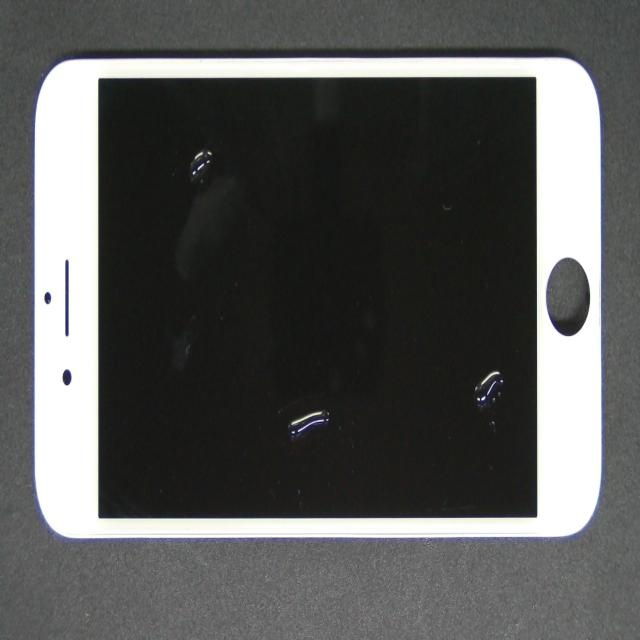oil: (261, 183, 640, 552), (186, 189, 470, 609), (116, 69, 295, 219)
